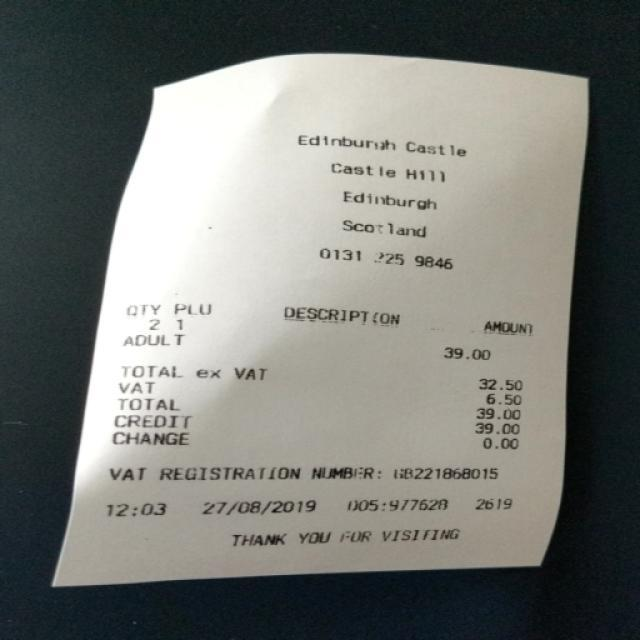document: (56, 54, 589, 586)
